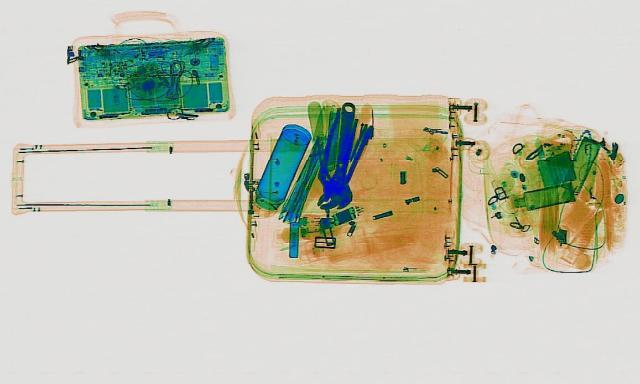Wrench: (318, 100, 364, 210)
